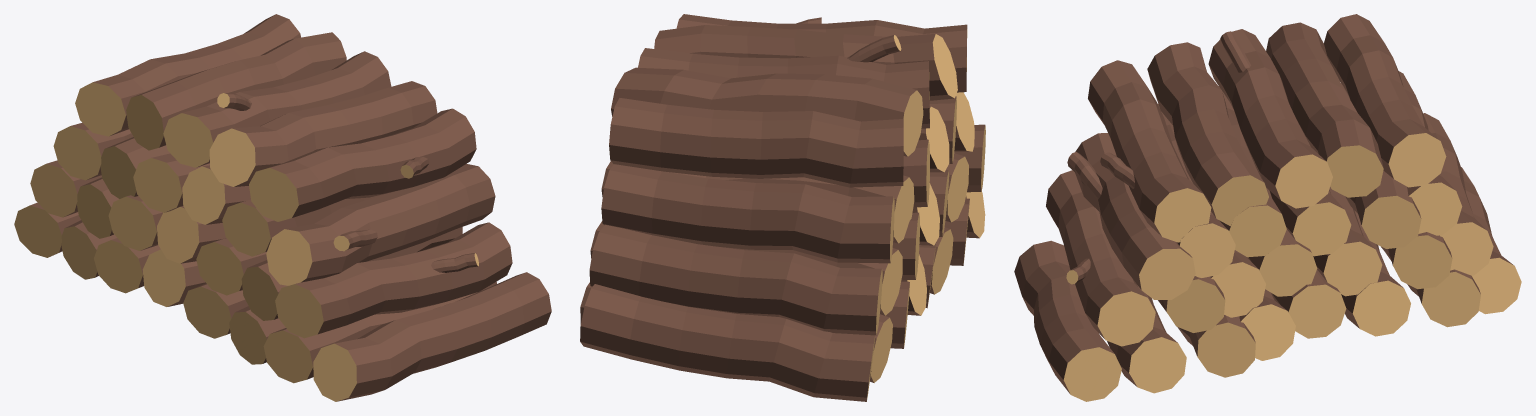
Rendered from woodpile.glb.
3 renders of one model, left to right at view 1: azimuth 30°, elevation 25°; view 2: azimuth 150°, elevation 25°; view 3: azimuth 270°, elevation 25°, orthographic. The views are drawn at different scales.
Parts seen in each view (by area): view 1: group538861481, group355967482, group563753358, group1106180143, group1848351147, group1972417732, group1139732488, group312684487, group66307505, group193797384, group664606928, group889430833 (+17 smaller); view 2: group312684487, group664606928, group216179807, group1057746760, group1972417732, group1848351147, group1139732488, group1106180143, group1195377041, group616709193, group889430833, group290488084 (+15 smaller); view 3: group1848351147, group1106180143, group1139732488, group1972417732, group312684487, group538861481, group355967482, group563753358, group1195377041, group1057746760, group66307505, group726707995 (+17 smaller).
Boxes of the visible parts, left/top/right/bottom form: group538861481: left=313, top=272, right=551, bottom=401; group355967482: left=275, top=222, right=512, bottom=338; group563753358: left=266, top=164, right=495, bottom=285; group1106180143: left=249, top=108, right=476, bottom=221; group1848351147: left=209, top=81, right=437, bottom=186; group1972417732: left=126, top=32, right=346, bottom=150; group1139732488: left=163, top=51, right=391, bottom=167; group312684487: left=75, top=14, right=301, bottom=136; group66307505: left=263, top=281, right=496, bottom=383; group193797384: left=222, top=194, right=384, bottom=256; group664606928: left=53, top=122, right=133, bottom=180; group889430833: left=133, top=153, right=209, bottom=212; group312684487: left=609, top=98, right=903, bottom=187; group664606928: left=601, top=164, right=894, bottom=263; group216179807: left=580, top=284, right=874, bottom=401; group1057746760: left=589, top=224, right=882, bottom=335; group1972417732: left=611, top=67, right=923, bottom=156; group1848351147: left=654, top=25, right=957, bottom=100; group1139732488: left=638, top=48, right=929, bottom=128; group1106180143: left=676, top=14, right=967, bottom=92; group1195377041: left=601, top=161, right=914, bottom=243; group616709193: left=590, top=221, right=902, bottom=315; group889430833: left=903, top=139, right=929, bottom=207; group290488084: left=918, top=106, right=949, bottom=172; group1848351147: left=1147, top=42, right=1268, bottom=226; group1106180143: left=1088, top=60, right=1211, bottom=242; group1139732488: left=1208, top=29, right=1332, bottom=208; group1972417732: left=1266, top=22, right=1383, bottom=197; group312684487: left=1324, top=14, right=1446, bottom=187; group538861481: left=1014, top=240, right=1121, bottom=401; group355967482: left=1046, top=170, right=1155, bottom=346; group563753358: left=1075, top=133, right=1195, bottom=299; group1195377041: left=1341, top=83, right=1421, bottom=248; group1057746760: left=1423, top=113, right=1493, bottom=275; group66307505: left=1107, top=285, right=1186, bottom=393; group726707995: left=1313, top=187, right=1382, bottom=296.
Bounding box in the file's own units: 0.9356 × 0.6571 × 1.17.
